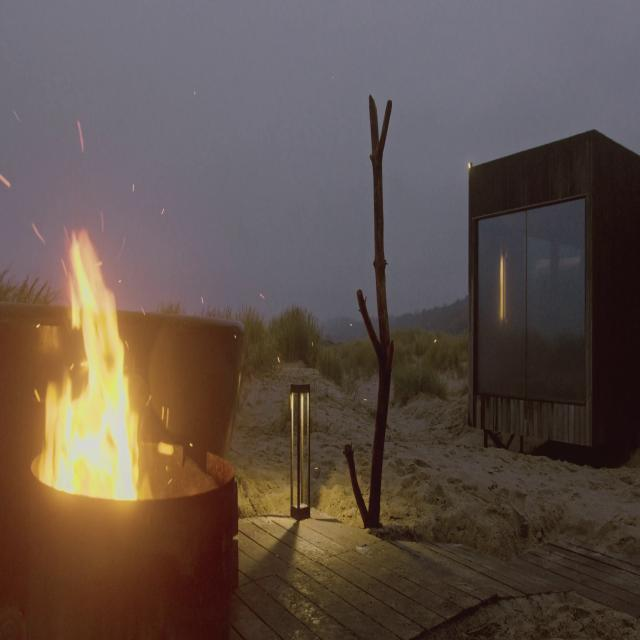Fire: (40, 210, 146, 505)
